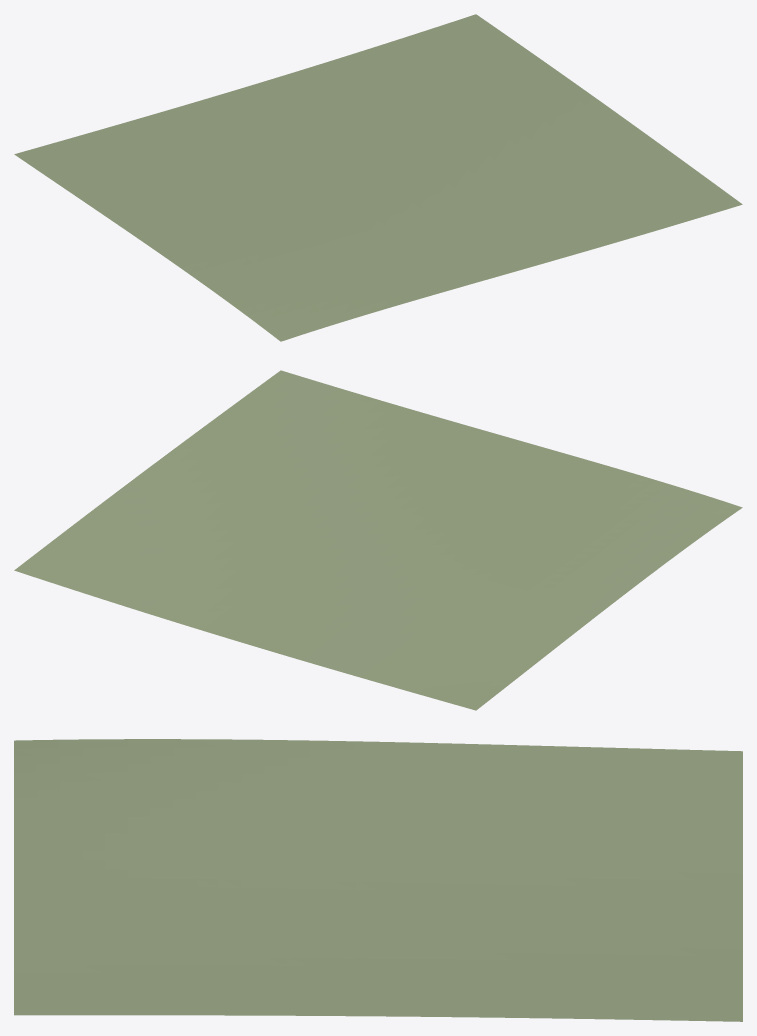
File: expanse-9-7.glb
The picture shows the model from 3 angles, top to bottom: view 1: azimuth 30°, elevation 25°; view 2: azimuth 150°, elevation 25°; view 3: azimuth 270°, elevation 25°; orthographic projection. The views are drawn at different scales.
Parts seen in each view (by area): view 1: expanse-9-7; view 2: expanse-9-7; view 3: expanse-9-7.
Boxes of the visible parts, x1,y1,x2,y2 form: expanse-9-7: (14,14,742,341); expanse-9-7: (14,370,742,710); expanse-9-7: (14,739,742,1021).
Size of the model in its own units: 256 by 17.1 by 256.
